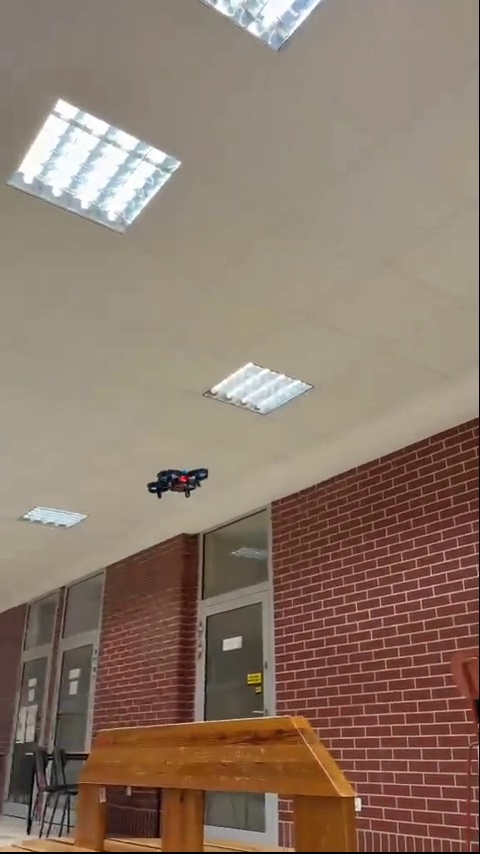drone: (150, 461, 211, 506)
